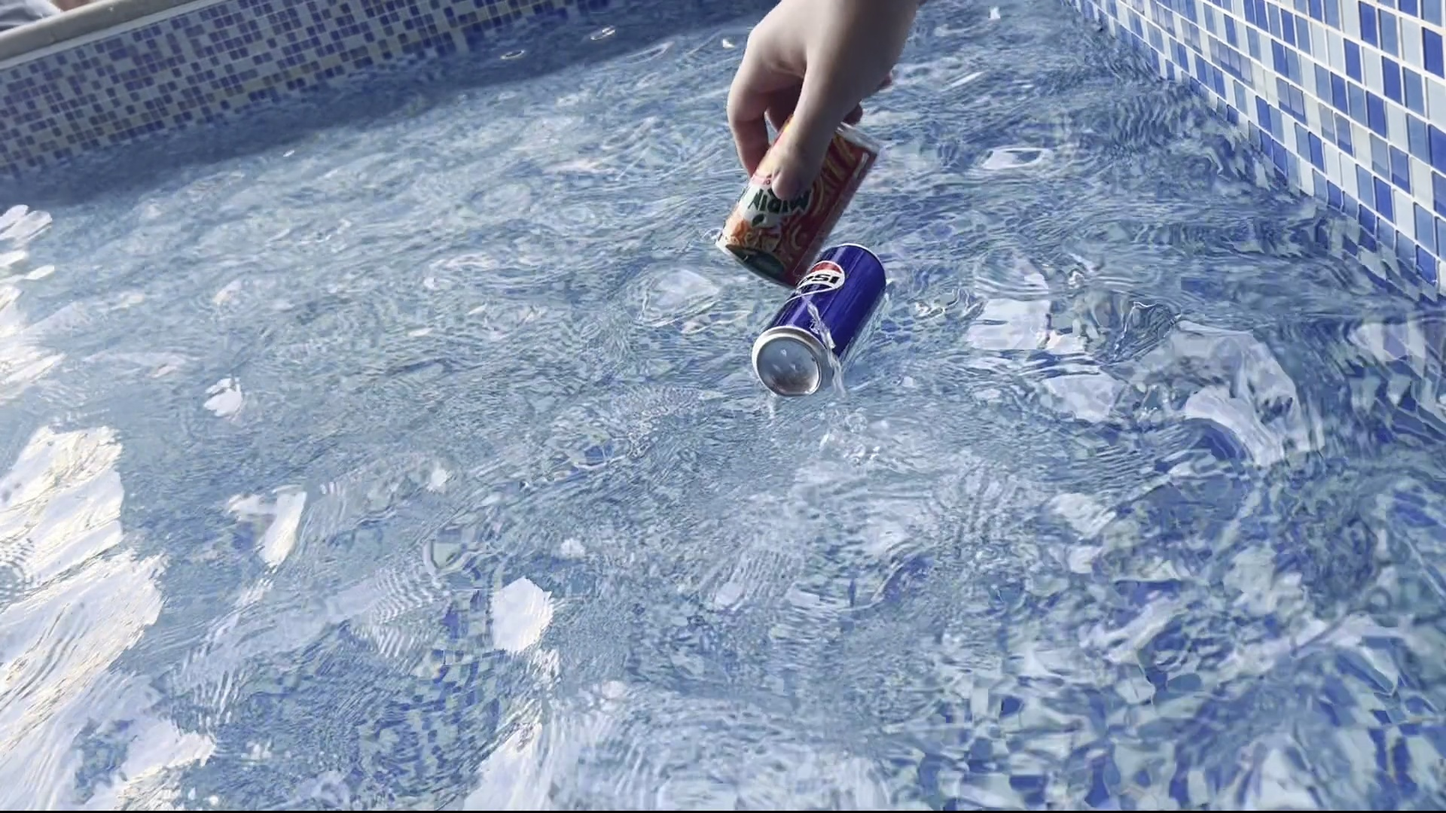debris: (703, 105, 886, 292), (741, 235, 892, 395)
